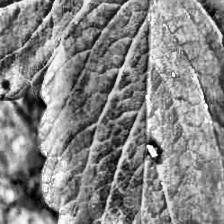Leaf Spot: (36, 0, 224, 224), (0, 0, 121, 102), (172, 0, 224, 109)
